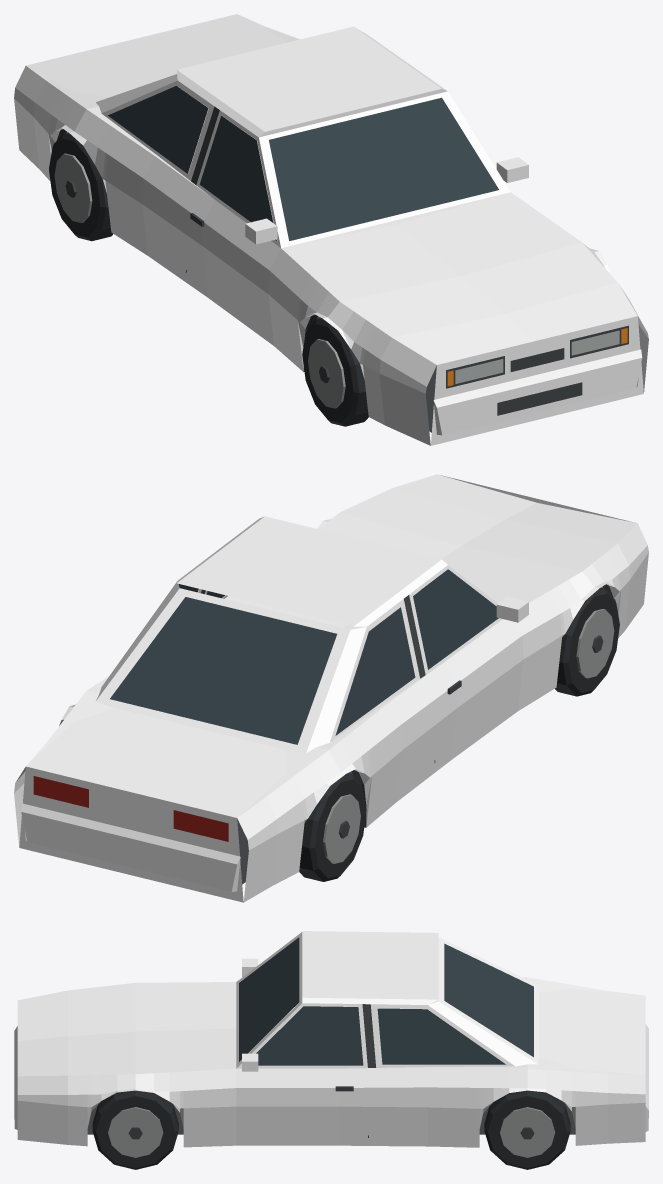
File: hartwig_gleiter.glb
The picture shows the model from 3 angles, top to bottom: view 1: azimuth 30°, elevation 25°; view 2: azimuth 150°, elevation 25°; view 3: azimuth 270°, elevation 25°; orthographic projection. The views are drawn at different scales.
Parts seen in each view (by area): view 1: hartwig_gleiter; view 2: hartwig_gleiter; view 3: hartwig_gleiter.
Part boxes in pixels (bbox=[...]): hartwig_gleiter: bbox=[14, 14, 648, 445]; hartwig_gleiter: bbox=[14, 474, 648, 902]; hartwig_gleiter: bbox=[14, 931, 648, 1169].
Size of the model in its own units: 1.79 by 1.25 by 4.6.
Materials: 8 (1 with a texture image).
